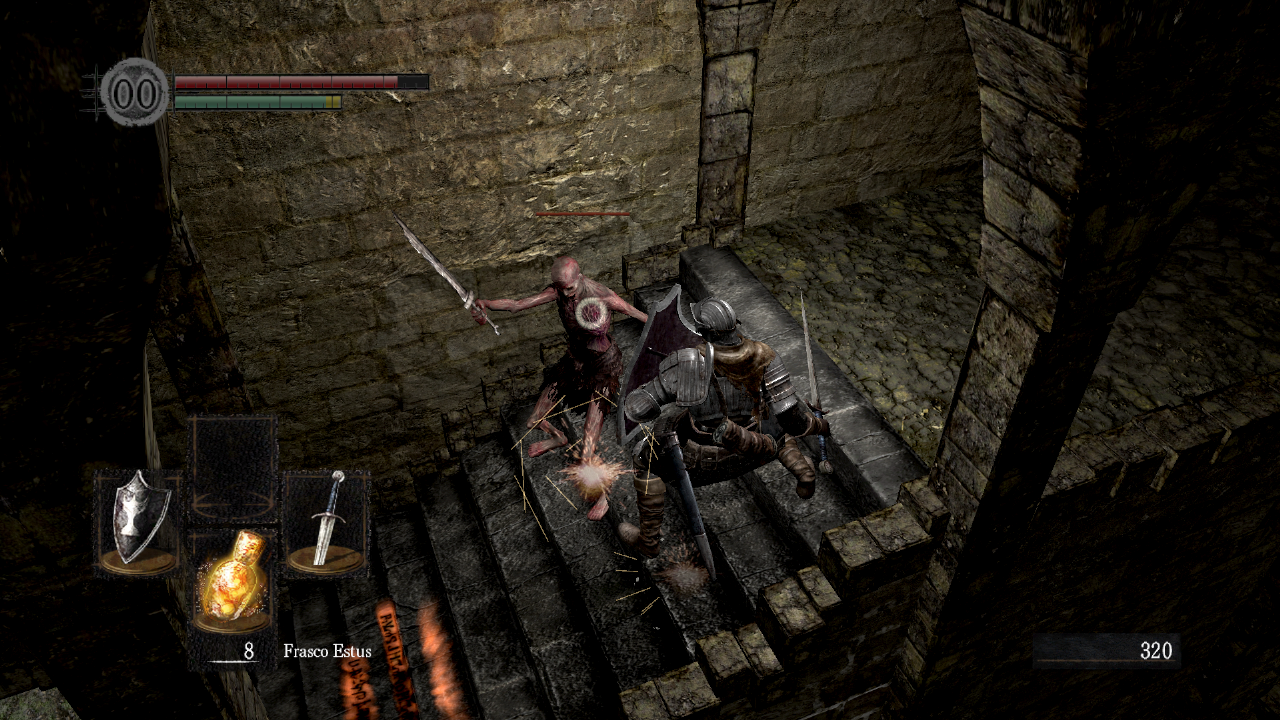hollow: (390, 212, 653, 521)
player: (617, 284, 834, 583)
